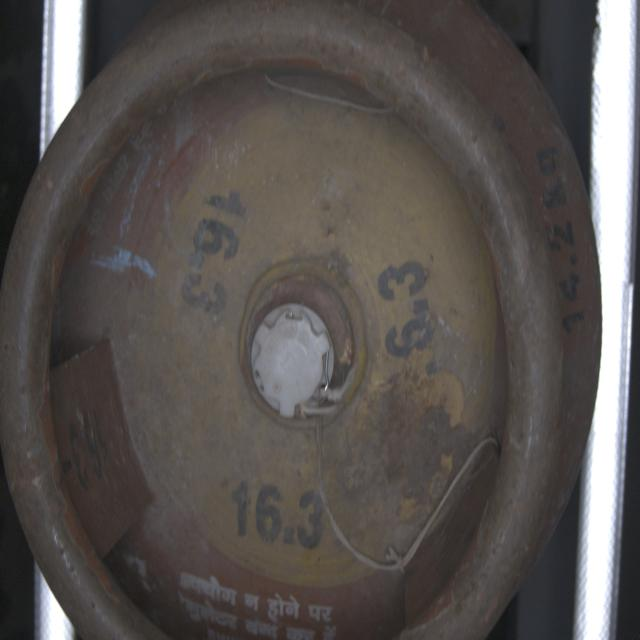Cap: (249, 301, 336, 422)
